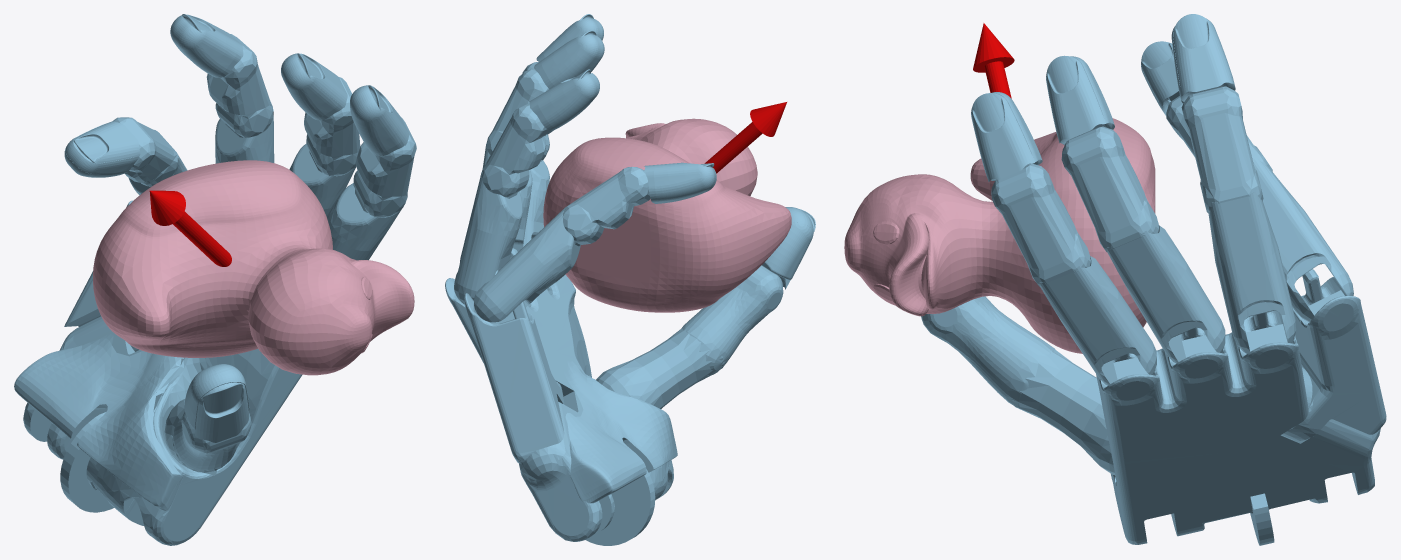
The picture shows the model from 3 angles, left to right: view 1: azimuth 30°, elevation 25°; view 2: azimuth 150°, elevation 25°; view 3: azimuth 270°, elevation 25°; orthographic projection. The views are drawn at different scales.
Parts seen in each view (by area): view 1: world, rubber_duck.stl; view 2: world, rubber_duck.stl; view 3: world, rubber_duck.stl.
Part boxes in pixels (left/top/right/bottom): world: left=14, top=14, right=416, bottom=545; rubber_duck.stl: left=93, top=160, right=414, bottom=375; world: left=445, top=14, right=815, bottom=545; rubber_duck.stl: left=543, top=118, right=791, bottom=312; world: left=921, top=14, right=1386, bottom=545; rubber_duck.stl: left=844, top=118, right=1155, bottom=353.
Bounding box in the file's own units: 0.1155 × 0.188 × 0.1672.
